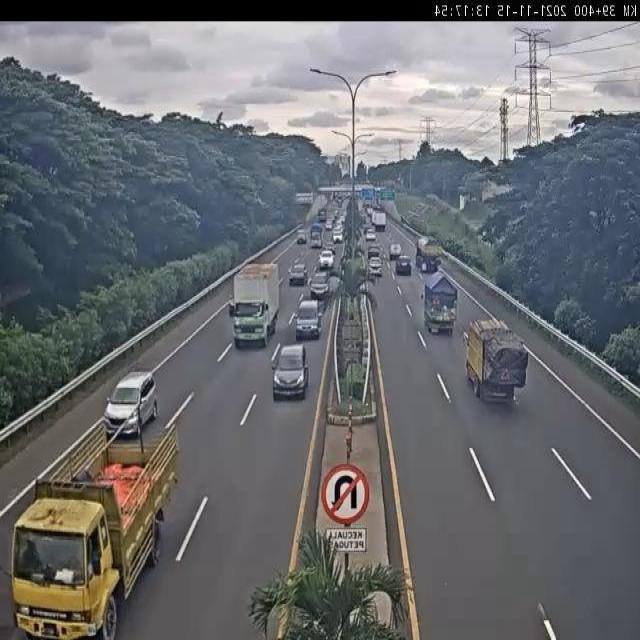Car: (103, 370, 158, 438), (271, 342, 310, 402), (294, 300, 322, 340), (310, 271, 330, 302), (289, 264, 308, 286), (396, 255, 412, 276), (368, 256, 383, 277), (318, 250, 334, 268), (389, 243, 402, 260), (367, 245, 380, 260), (365, 228, 376, 242), (297, 231, 307, 244)
Truck: (9, 422, 180, 640), (462, 320, 528, 405), (228, 262, 280, 350), (420, 270, 459, 334), (415, 235, 445, 275), (309, 222, 324, 250), (374, 211, 387, 234)
